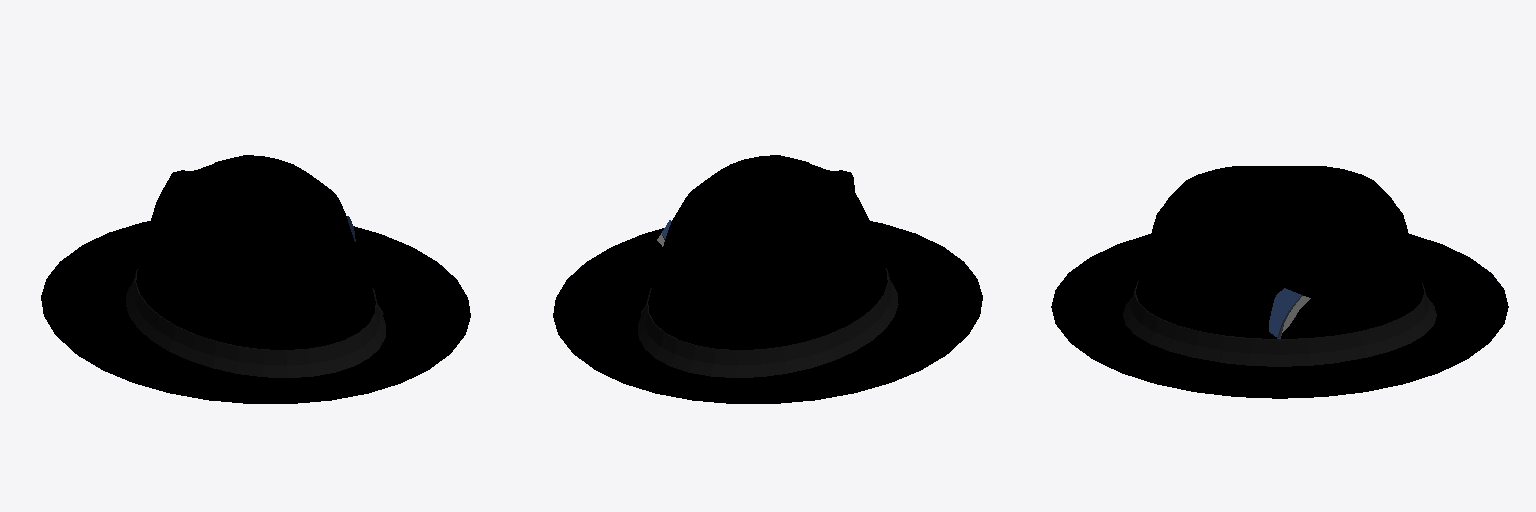
File: fedora_hat.obj
3 views of the same model, side by side, from view 1: azimuth 30°, elevation 25°; view 2: azimuth 150°, elevation 25°; view 3: azimuth 270°, elevation 25° (orthographic).
Parts seen in each view (by area): view 1: Circle.001; view 2: Circle.001; view 3: Circle.001.
Part boxes in pixels (left/top/right/bottom): Circle.001: left=41, top=155, right=470, bottom=403; Circle.001: left=553, top=155, right=982, bottom=403; Circle.001: left=1051, top=166, right=1508, bottom=398.
Size of the model in its own units: 0.1268 by 0.0406 by 0.1378.